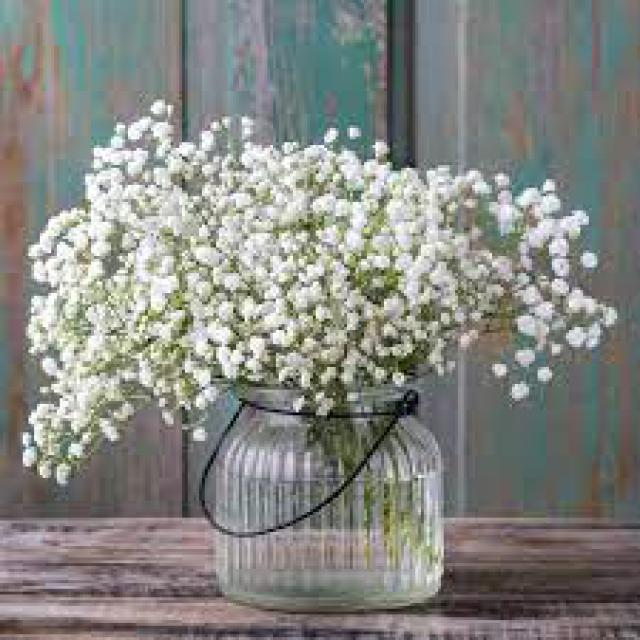gypsophila: (9, 98, 626, 480)
